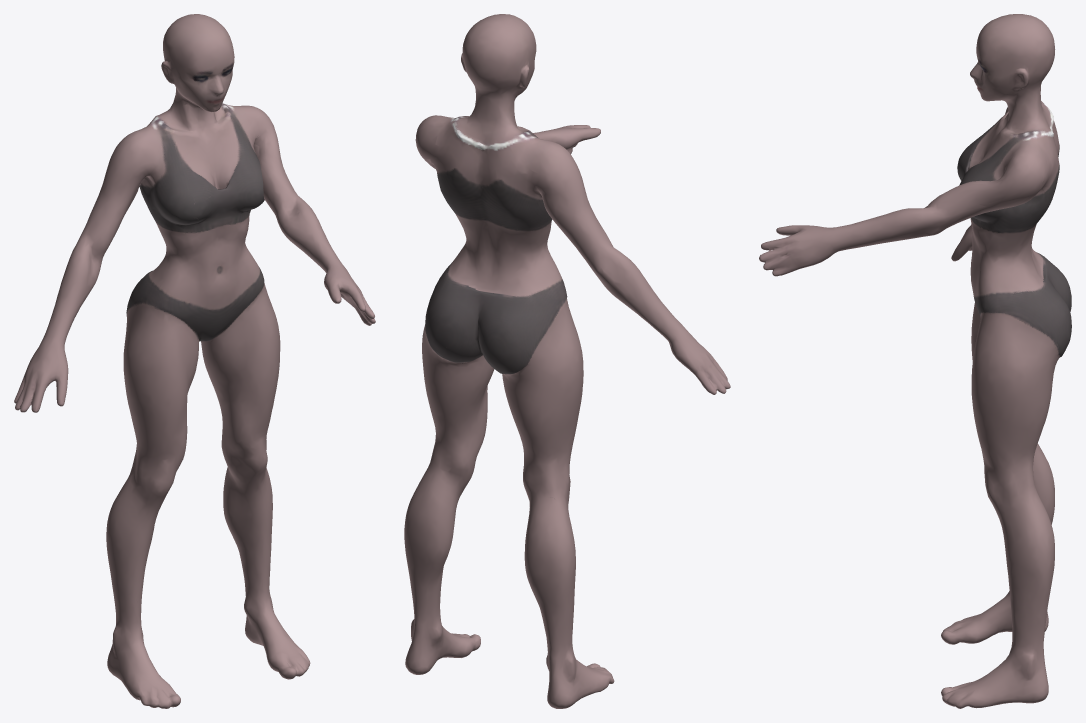
Rendered from 03-UpperArmR-60-child0-twist0-baseline.glb.
The picture shows the model from 3 angles, left to right: view 1: azimuth 30°, elevation 25°; view 2: azimuth 150°, elevation 25°; view 3: azimuth 270°, elevation 25°; orthographic projection. The views are drawn at different scales.
Parts seen in each view (by area): view 1: baseline; view 2: baseline; view 3: baseline.
Boxes of the visible parts, x1=… form: baseline: x1=14, y1=14, x2=375, y2=708; baseline: x1=404, y1=14, x2=730, y2=708; baseline: x1=759, y1=14, x2=1071, y2=708.
Bounding box in the file's own units: 0.4621 × 1 × 0.4345.
Materials: 1 (1 with a texture image).
